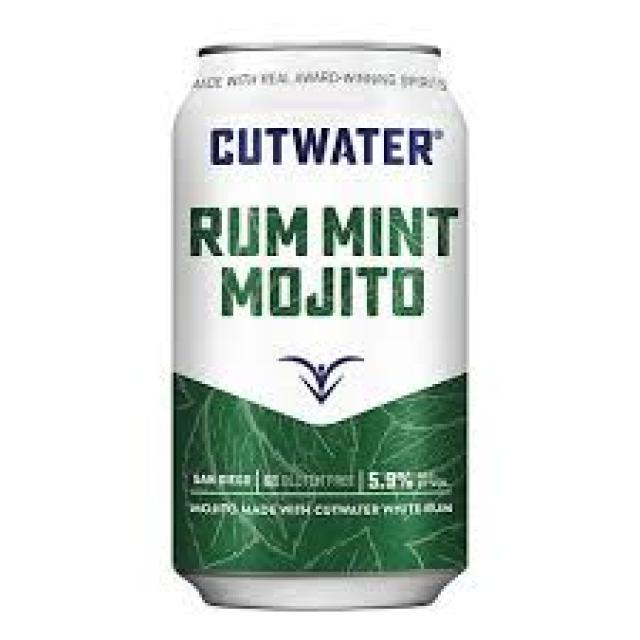Cans: (162, 31, 475, 614)
